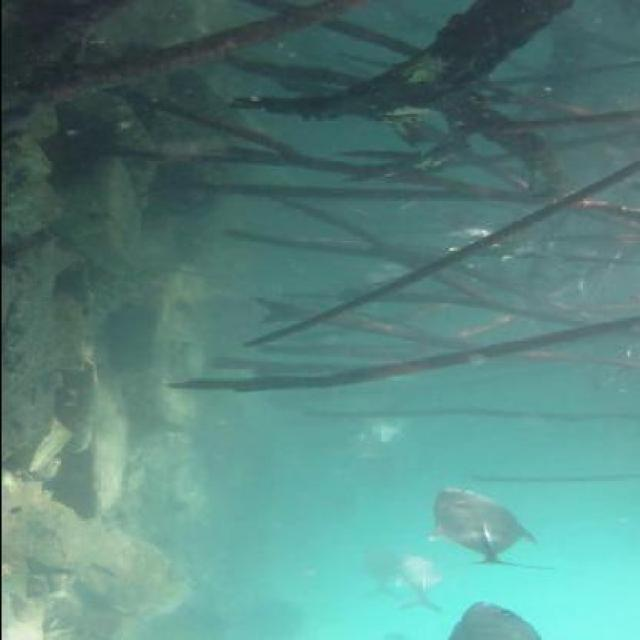Caranx_sexfasciatus_juvenile: (424, 485, 542, 573), (435, 595, 547, 640), (339, 395, 418, 453), (393, 552, 447, 613), (434, 212, 514, 248), (476, 218, 536, 253), (360, 544, 400, 594)
